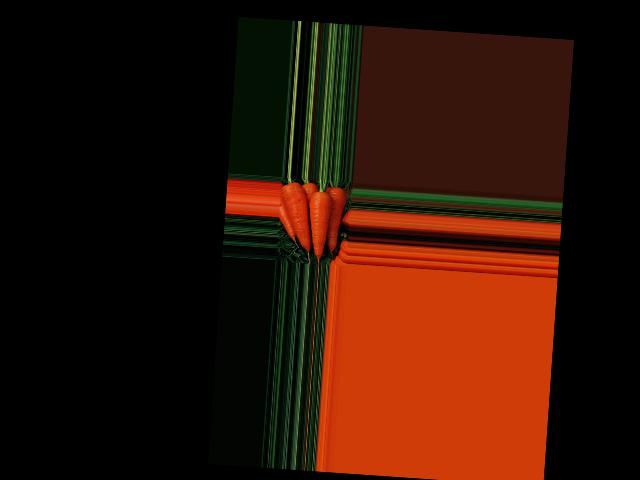carrot: (279, 182, 316, 254)
